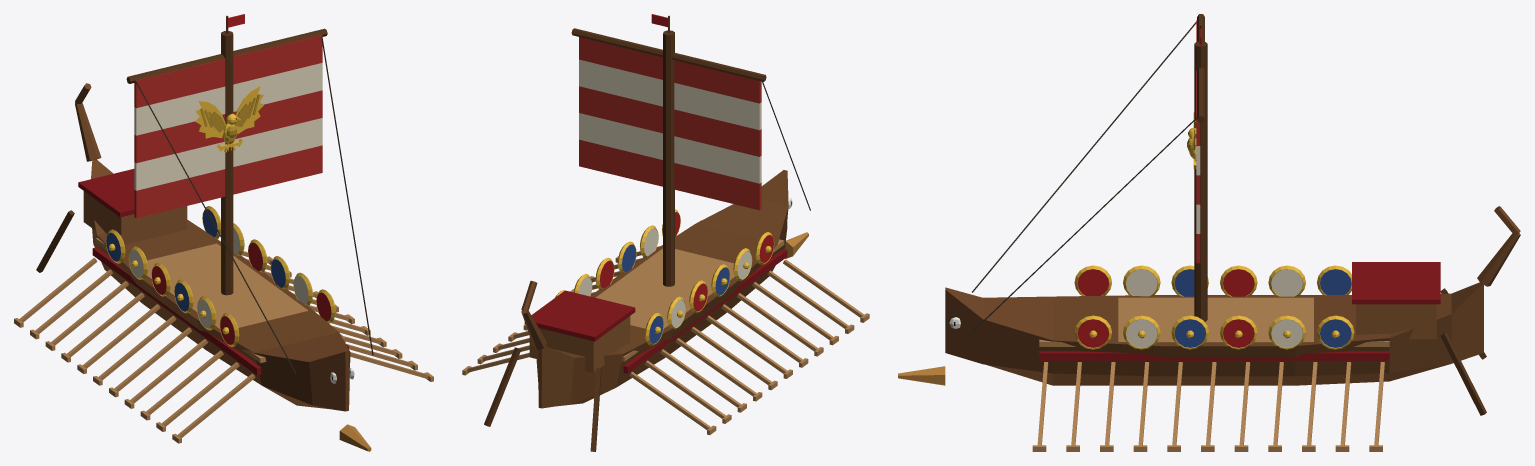
Rendered from galera.glb.
The picture shows the model from 3 angles, left to right: view 1: azimuth 30°, elevation 25°; view 2: azimuth 150°, elevation 25°; view 3: azimuth 270°, elevation 25°; orthographic projection. The views are drawn at different scales.
Visible parts, largest first — view 1: galera; view 2: galera; view 3: galera.
Part boxes in pixels (box(x1,y1,x2,y2)): galera: box(14, 14, 433, 451); galera: box(462, 14, 869, 451); galera: box(898, 14, 1520, 451).
Bounding box in the file's own units: 2.33 × 2.96 × 4.63.
